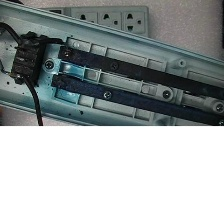three_eye_plug: (0, 0, 224, 149), (15, 3, 152, 90)
